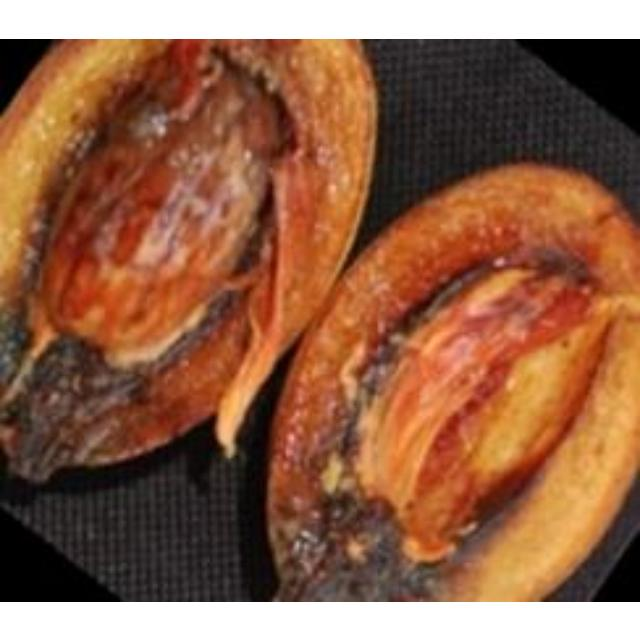damaged: (0, 38, 637, 599)
